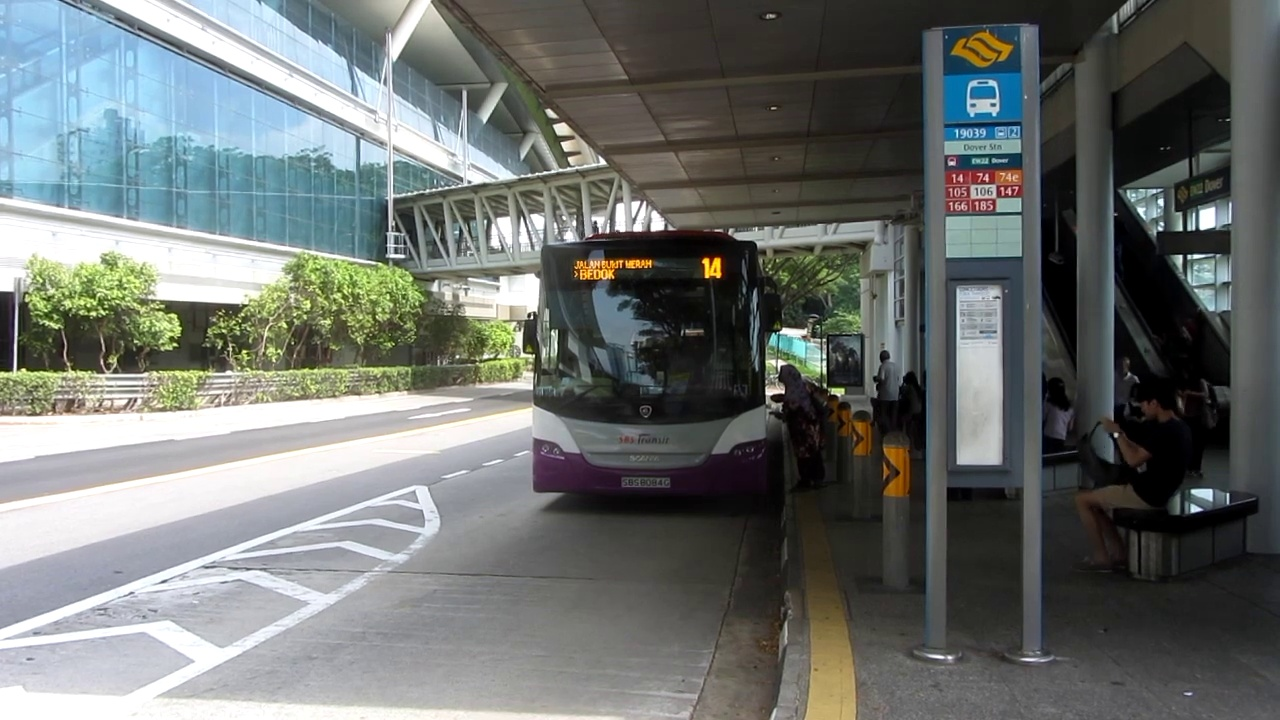bus panel: (567, 255, 728, 283)
